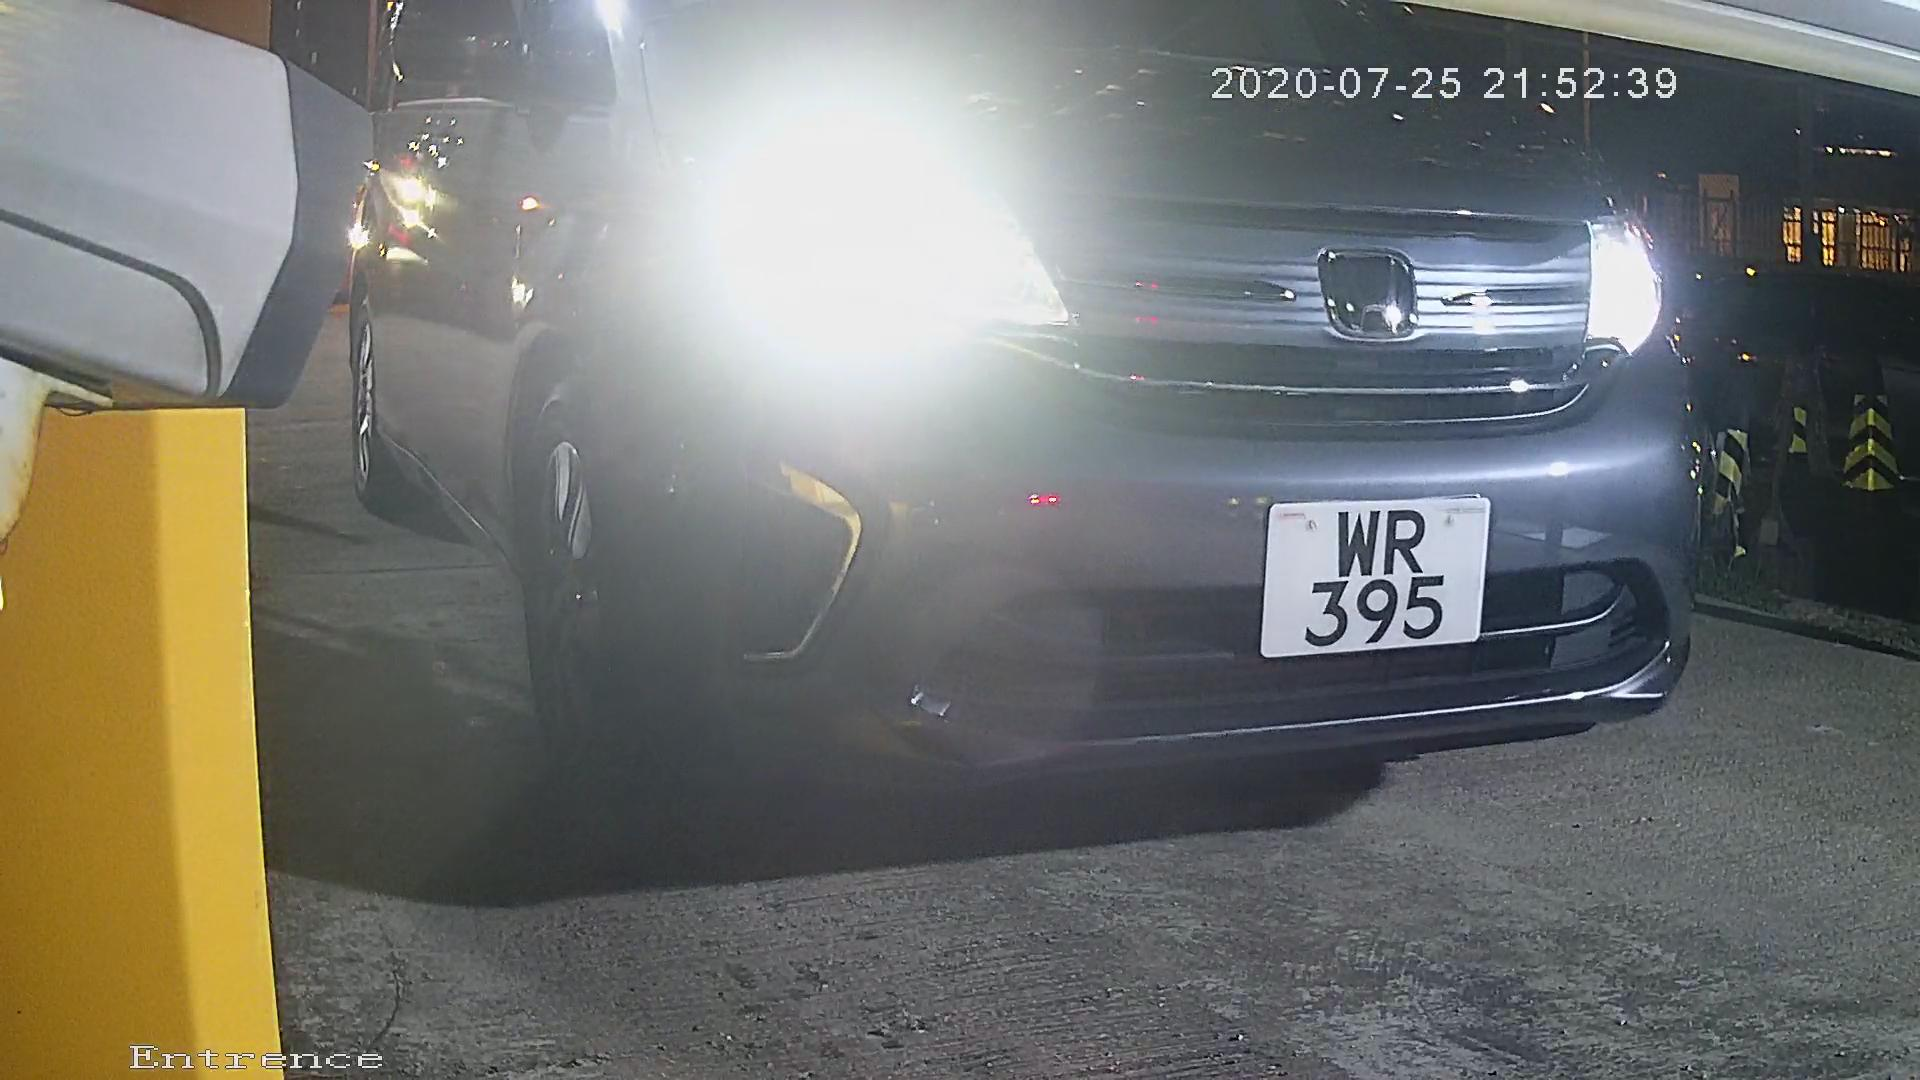Car: (155, 5, 1843, 854)
License Plate: (1243, 478, 1509, 685)
